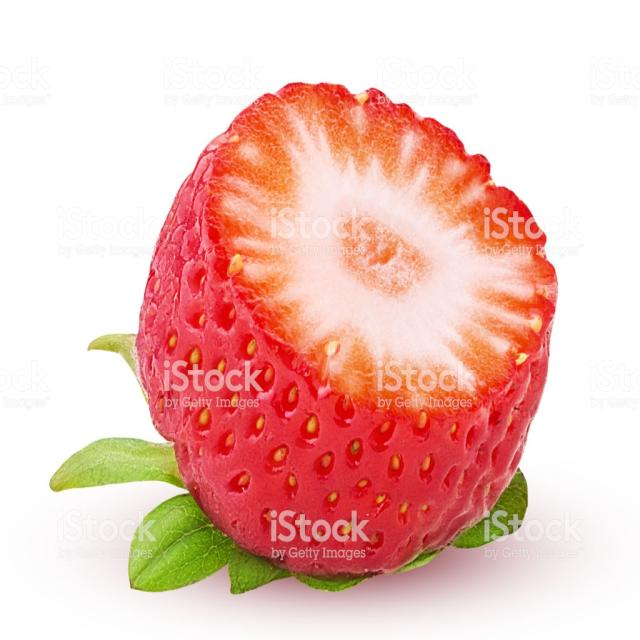strawberry: (49, 62, 568, 615)
